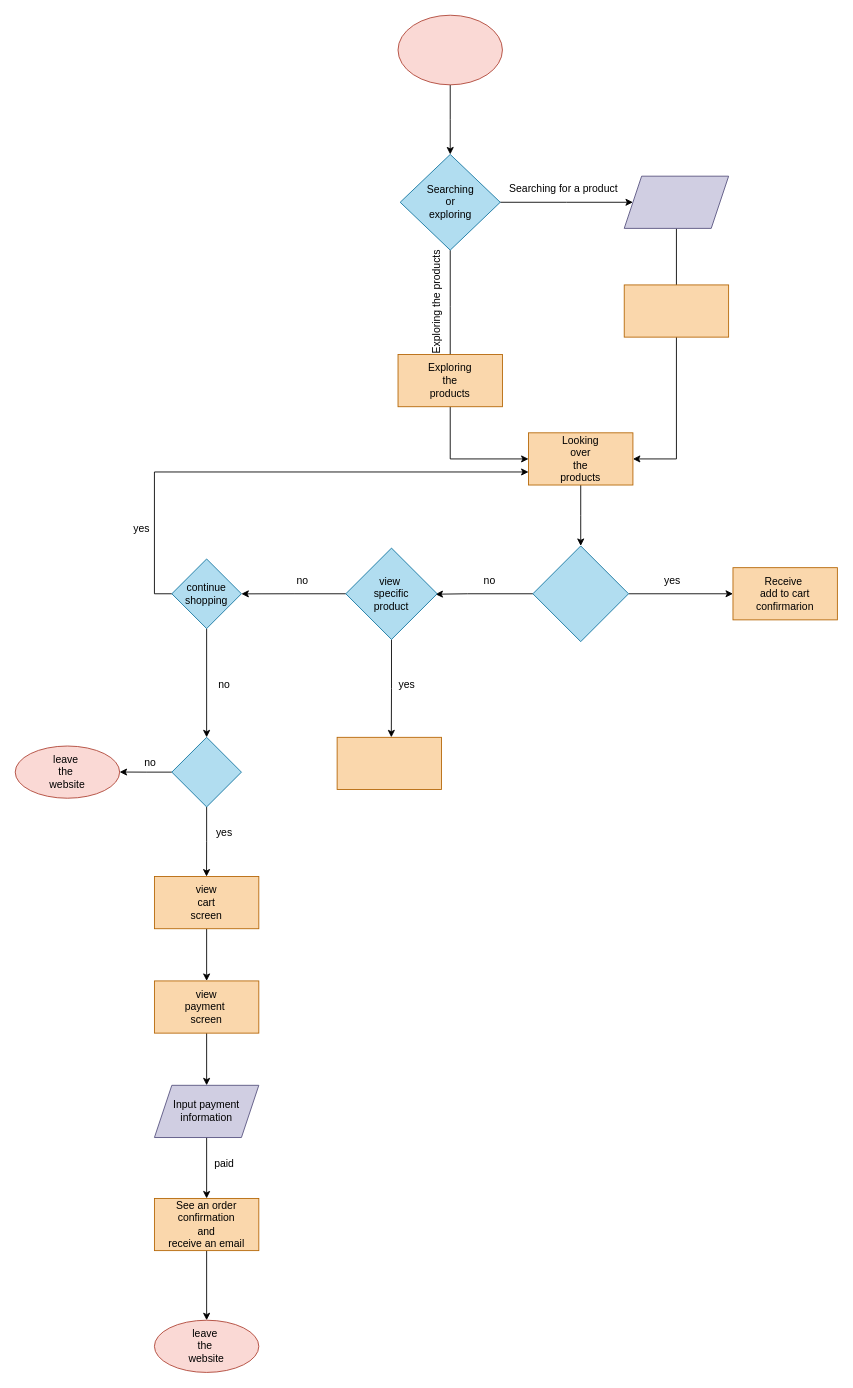
Some shapes in this 853 by 1388 pixel diagram are drawn without their labels. The centre of each missing label's shape, as x and y in pixels:
add to the cart: point (580, 593)
checkout: point (206, 771)
Enter the Website: point (449, 49)
open product webpage: point (389, 763)
Searching input: point (676, 201)
Searching the input: point (676, 310)
